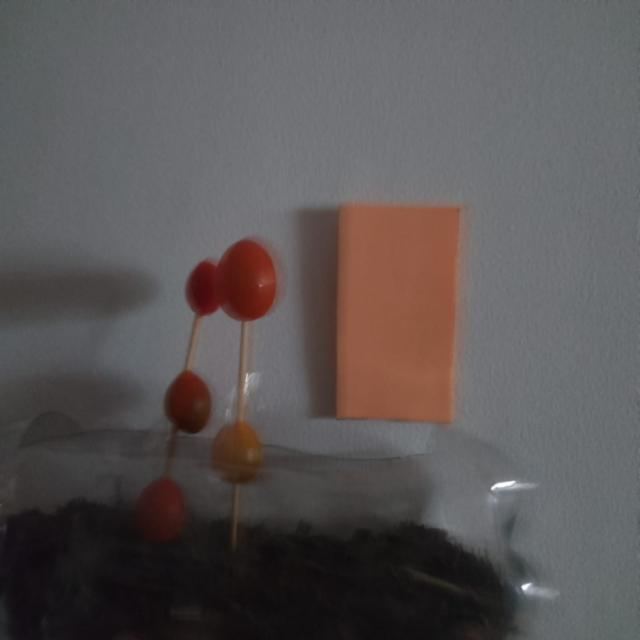card: (336, 204, 460, 423)
fruit_maturation: (212, 421, 262, 484)
fully_grown: (185, 238, 277, 322), (136, 476, 185, 542), (165, 370, 211, 434)
